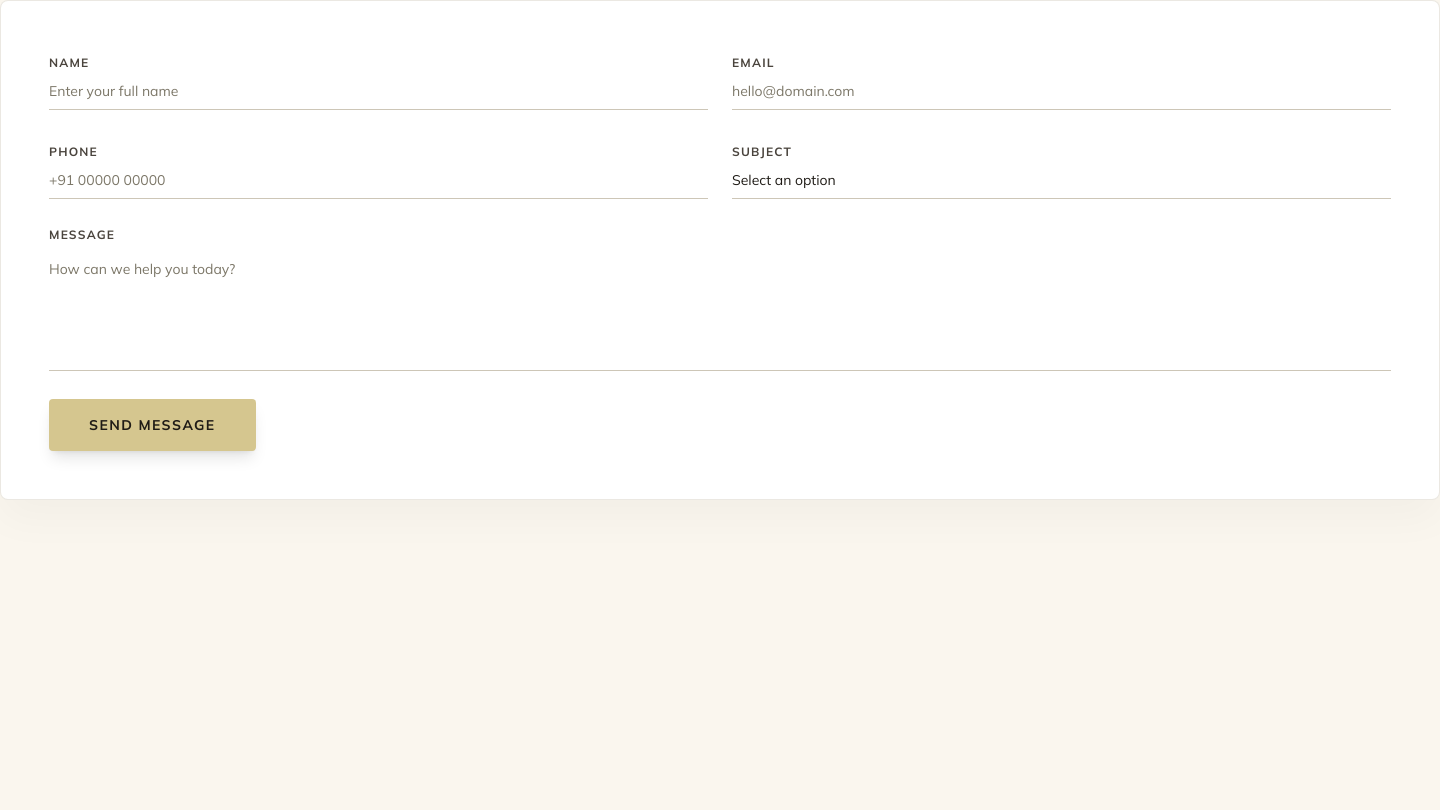
Scenario: ContactForm › Zod validation › shows a message-length error when message is under 20 characters
In the text box with test id "contact-message-input": {"x": 720, "y": 311} [49,251,1391,371], type "Too short"
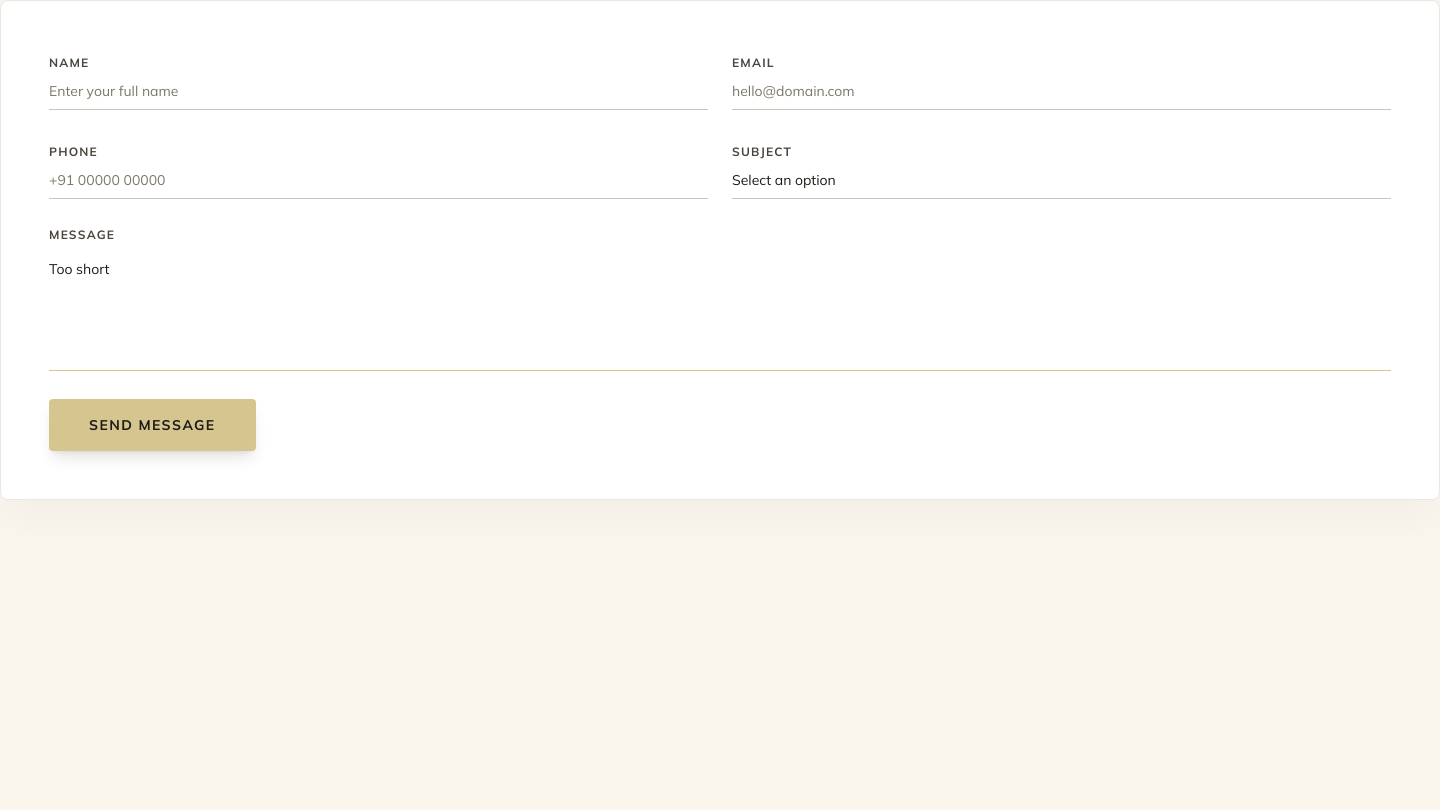
Click the button with test id "contact-submit-button": {"x": 152, "y": 425} [49,399,256,451]
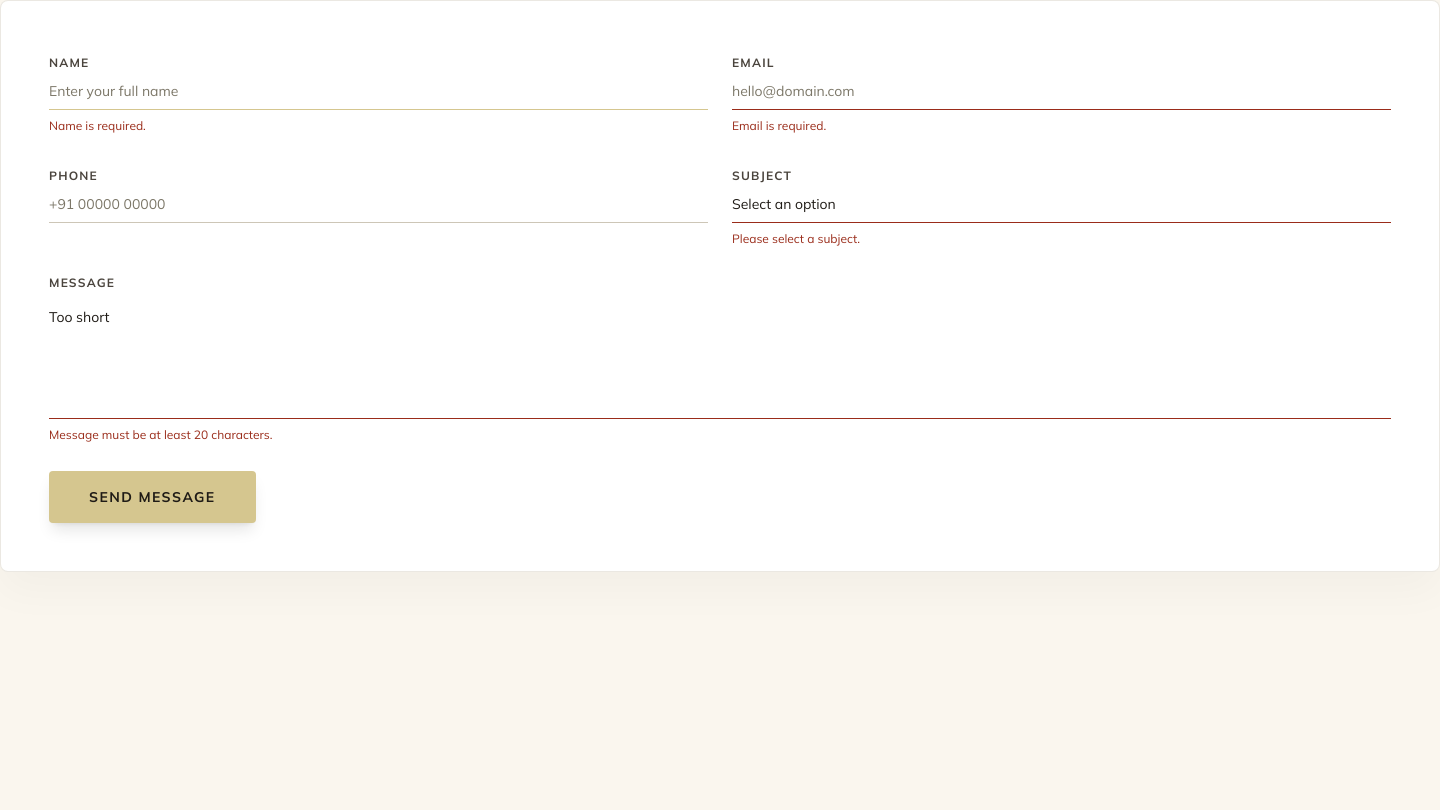
Check: the text with test id "contact-message-error" reads "Message must be at least 20 characters.", box [49,427,272,442]
